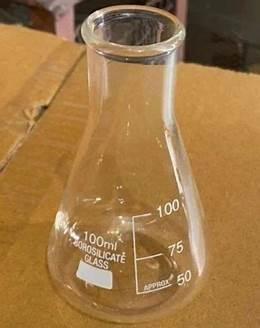Titrarion: (42, 12, 218, 316)
